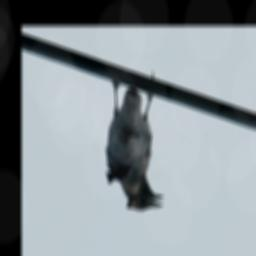Crow: (106, 69, 164, 215)
